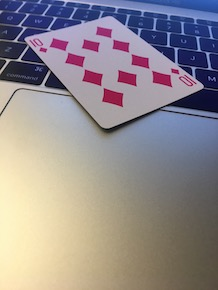TenOfDiamonds: (23, 11, 204, 131)
